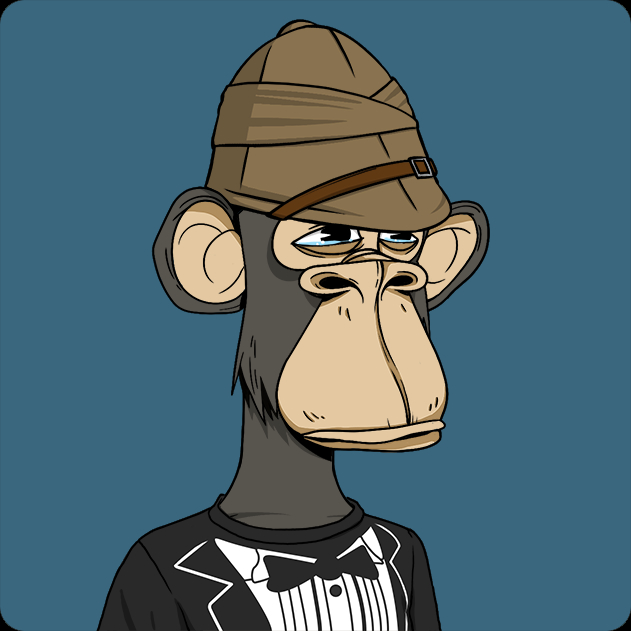Dress: (91, 485, 476, 631)
Eyes: (282, 213, 444, 274)
Head: (212, 17, 478, 232)
Mouth: (288, 401, 457, 458)
